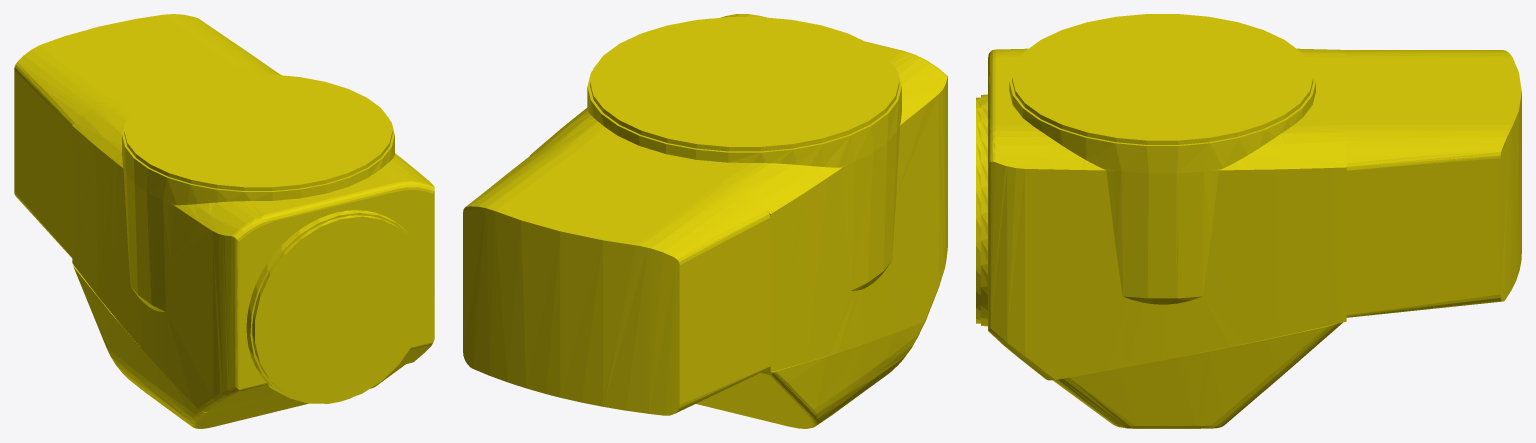
Rendered from elbow_link.dae.
3 views of the same model, side by side, from view 1: azimuth 30°, elevation 25°; view 2: azimuth 150°, elevation 25°; view 3: azimuth 270°, elevation 25° (orthographic). The views are drawn at different scales.
Visible parts, largest first — view 1: node; view 2: node; view 3: node.
Part boxes in pixels (x1,y1,x2,y2): node: [14, 14, 434, 428]; node: [463, 14, 947, 428]; node: [976, 14, 1521, 428].
Size of the model in its own units: 0.3486 by 0.373 by 0.623.
